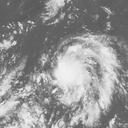cyclone: (51, 33, 118, 107)
